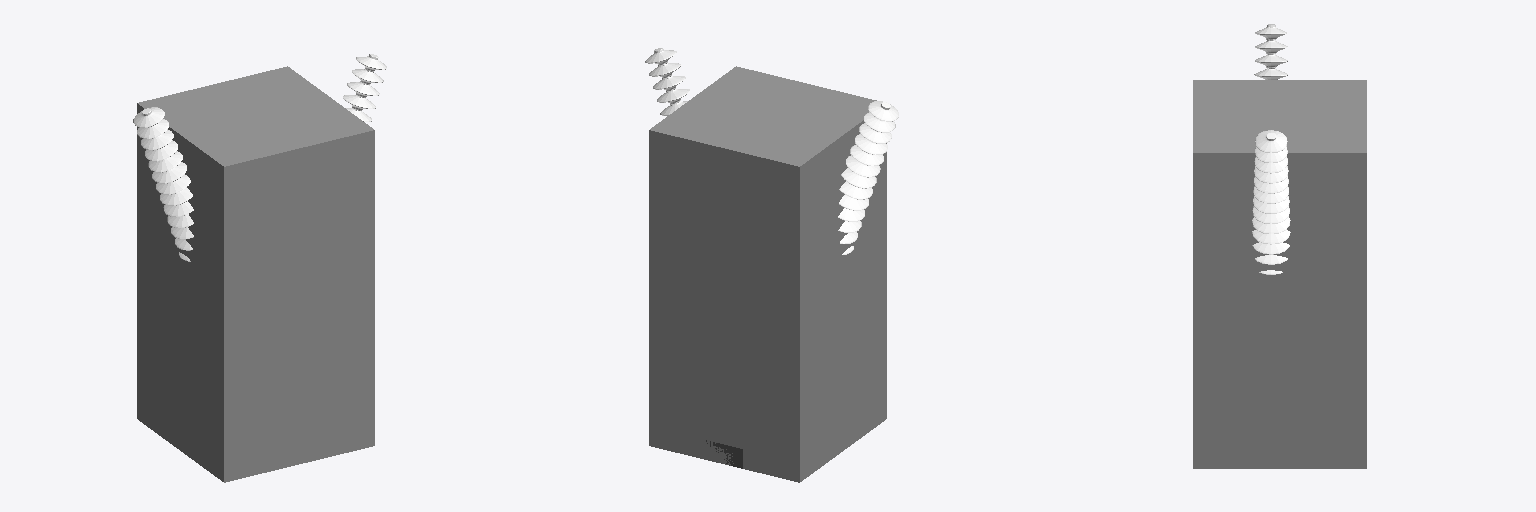
The picture shows the model from 3 angles: view 1: azimuth 30°, elevation 25°; view 2: azimuth 150°, elevation 25°; view 3: azimuth 270°, elevation 25°; orthographic projection.
Visible parts, largest first — view 1: Minecraft_Block.001_Cube.004, Minecraft_Block_Cube, breaker.002_Cube.003, breaker.001_Cube.003; view 2: Minecraft_Block.001_Cube.004, Minecraft_Block_Cube, breaker.002_Cube.003, breaker.001_Cube.003; view 3: Minecraft_Block.001_Cube.004, Minecraft_Block_Cube, breaker.001_Cube.003, breaker.002_Cube.003.
Boxes of the visible parts, box(x1,y1,x2,y2) form: Minecraft_Block.001_Cube.004: box(137, 66, 374, 324); Minecraft_Block_Cube: box(137, 261, 374, 482); breaker.002_Cube.003: box(133, 107, 193, 261); breaker.001_Cube.003: box(343, 54, 386, 121); Minecraft_Block.001_Cube.004: box(649, 66, 886, 324); Minecraft_Block_Cube: box(649, 261, 886, 482); breaker.002_Cube.003: box(838, 101, 898, 254); breaker.001_Cube.003: box(645, 48, 689, 115); Minecraft_Block.001_Cube.004: box(1193, 80, 1366, 310); Minecraft_Block_Cube: box(1193, 311, 1366, 468); breaker.001_Cube.003: box(1252, 130, 1290, 274); breaker.002_Cube.003: box(1254, 24, 1287, 79).
Size of the model in its own units: 1.65 by 2.24 by 1.
4 materials, 1 textured.